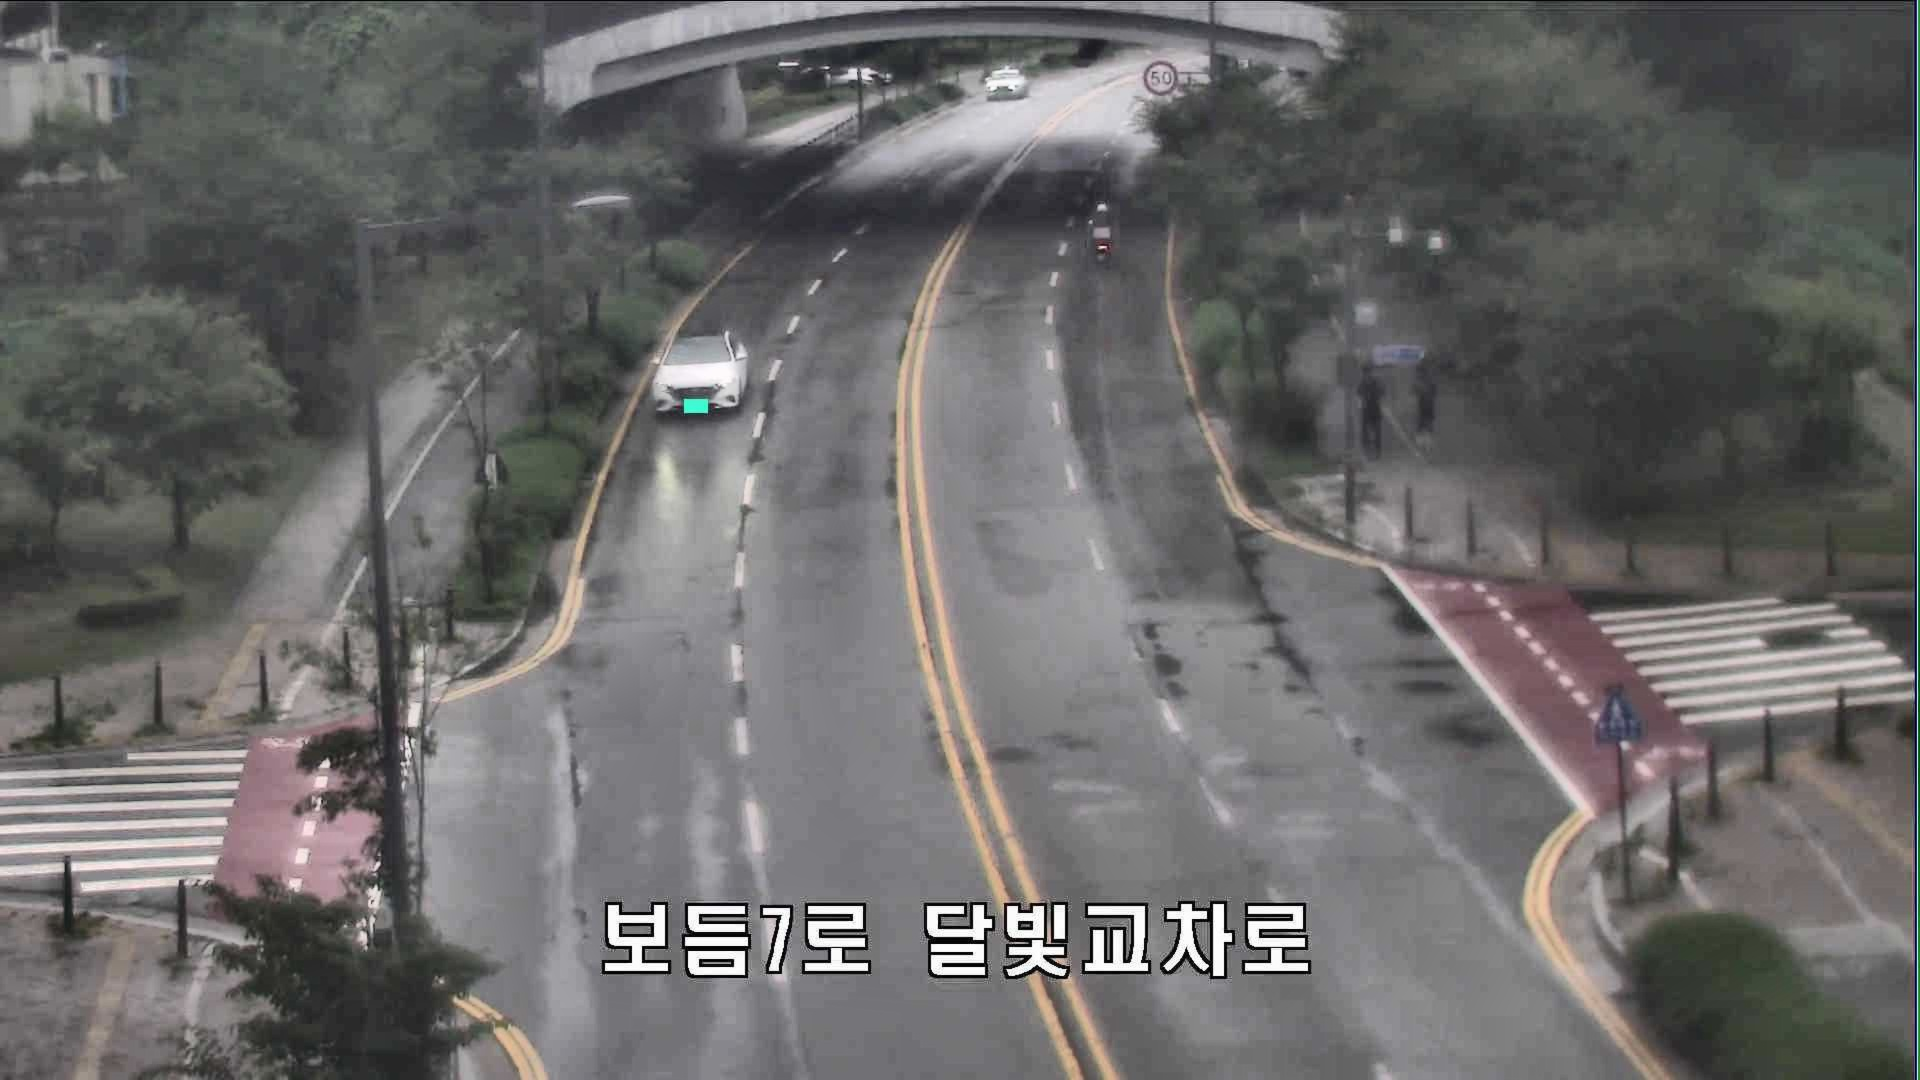sidewalk: (1410, 357, 1443, 458), (1352, 360, 1382, 465)
